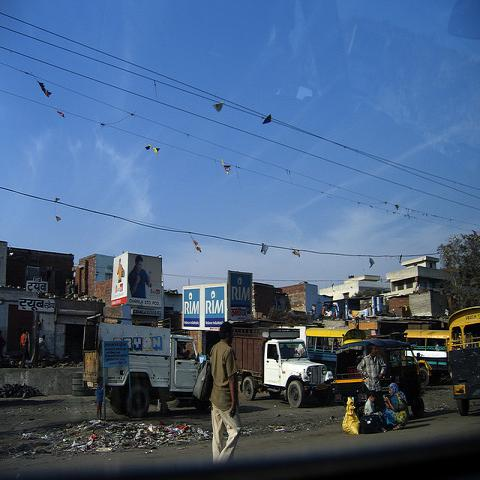bus: (448, 306, 479, 416), (306, 327, 366, 377), (404, 329, 450, 387)
truck: (88, 327, 206, 417), (230, 326, 334, 409)
